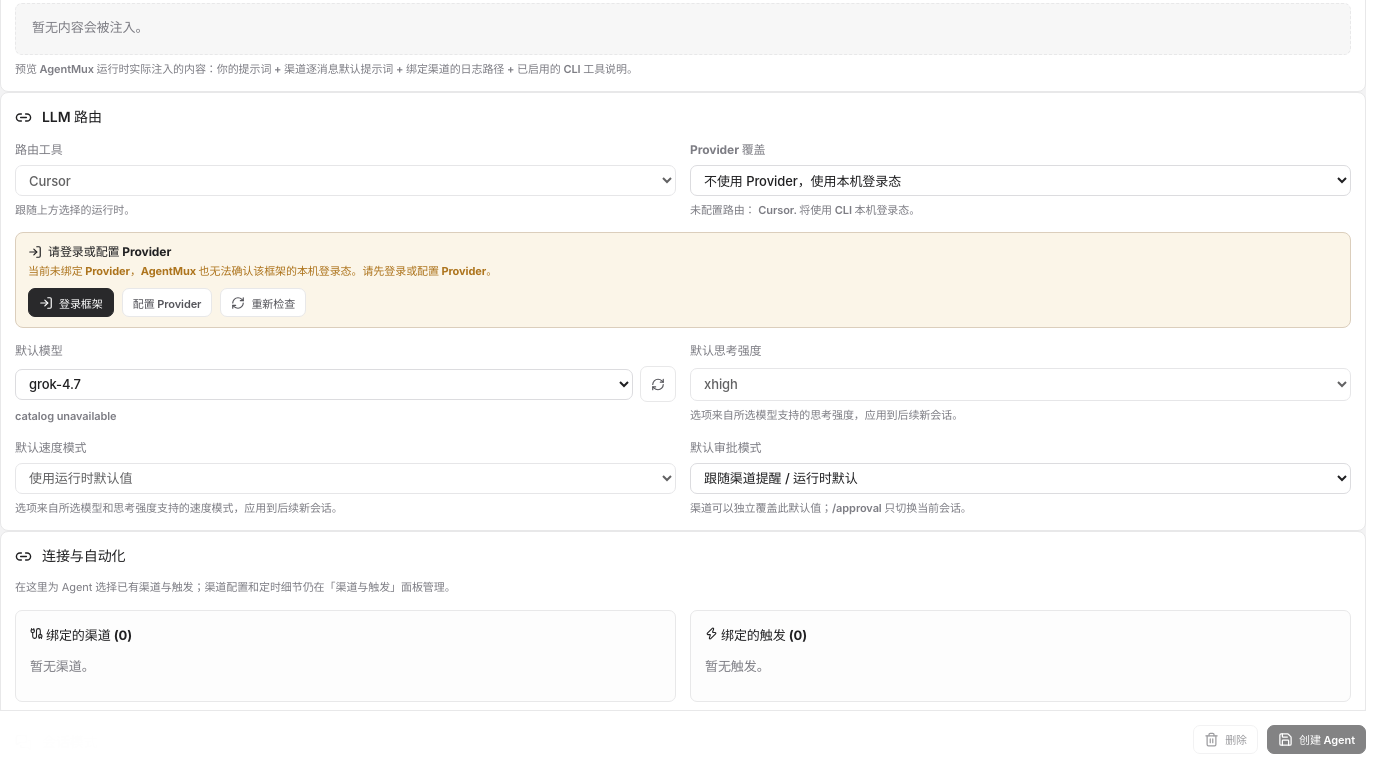
Test: preserves configured values on discovery failure and lets the user retry
(page scrolled)
Expected: the dropdown labelled "默认模型 catalog unavailable" shows "grok-4.7", [15,369,633,400]
Expected: the button "创建 Agent" is disabled, [1267,725,1366,754]
Click the button named "刷新模型与运行设置".
click(658, 384)  # box [640,366,676,402]
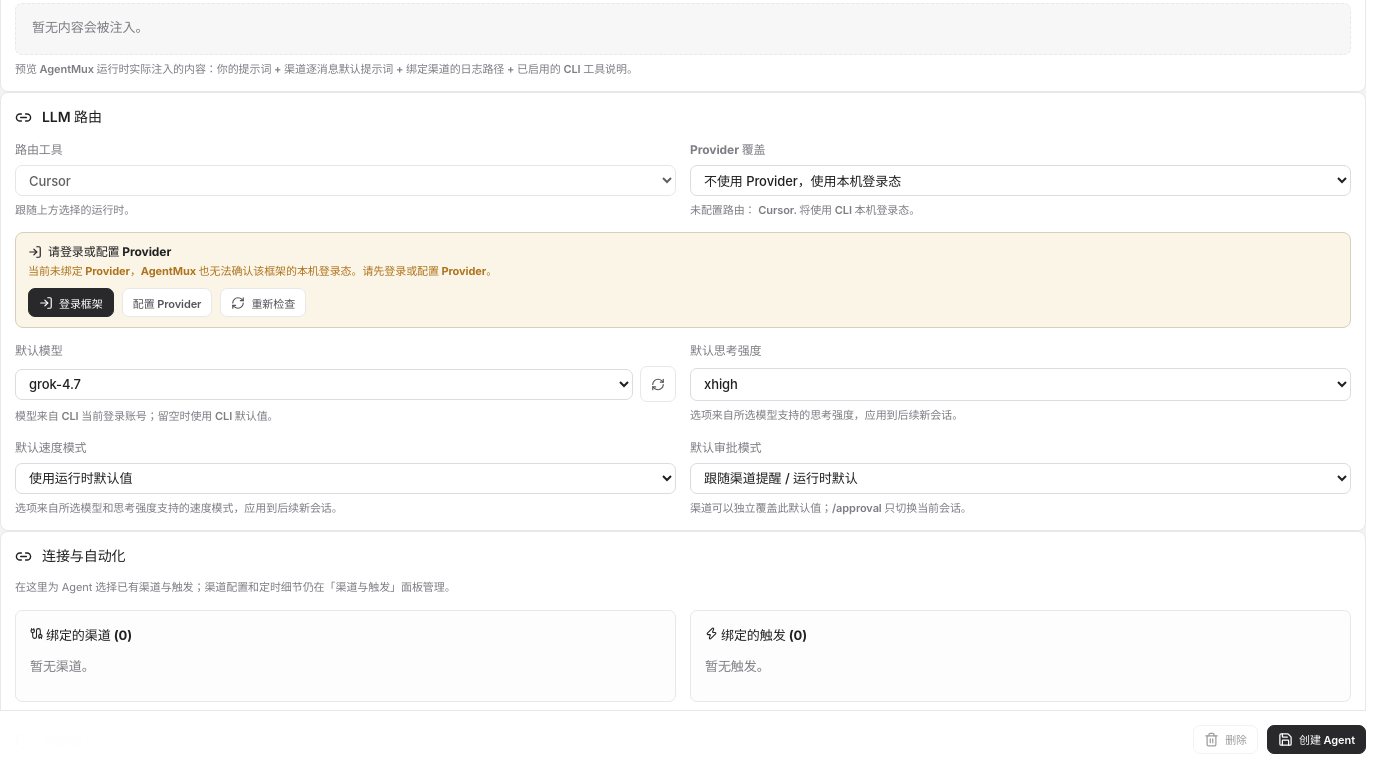
Result: the button "创建 Agent" is enabled at [1267,725,1366,754]
